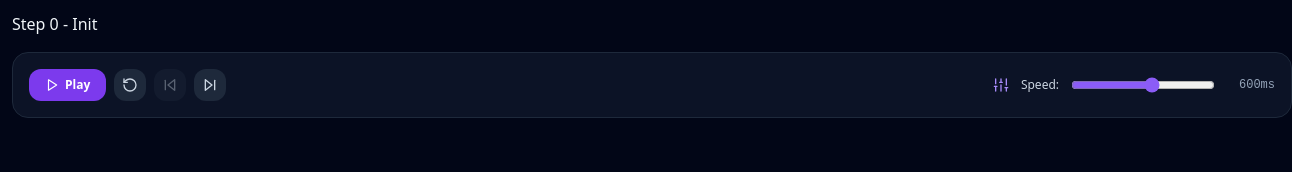
Test: AnimationPlayer Component › steps forward and backward upon clicking buttons
Click the button titled "Step Forward" at {"x": 210, "y": 85}, box x1=194 y1=69 x2=226 y2=101
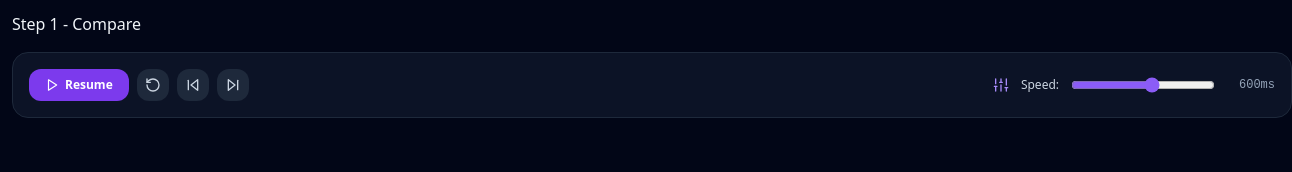
Check: the text "Step 1 - Compare" is shown, box x1=12 y1=13 x2=141 y2=35
Click the button titled "Step Backward" at {"x": 193, "y": 85}, box x1=177 y1=69 x2=209 y2=101
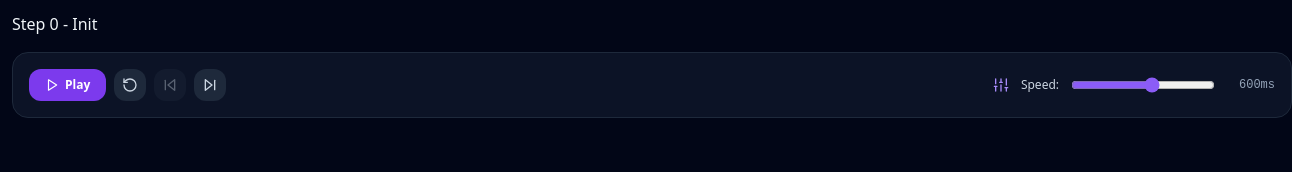
Check: the text "Step 0 - Init" is shown, box x1=12 y1=13 x2=97 y2=35
